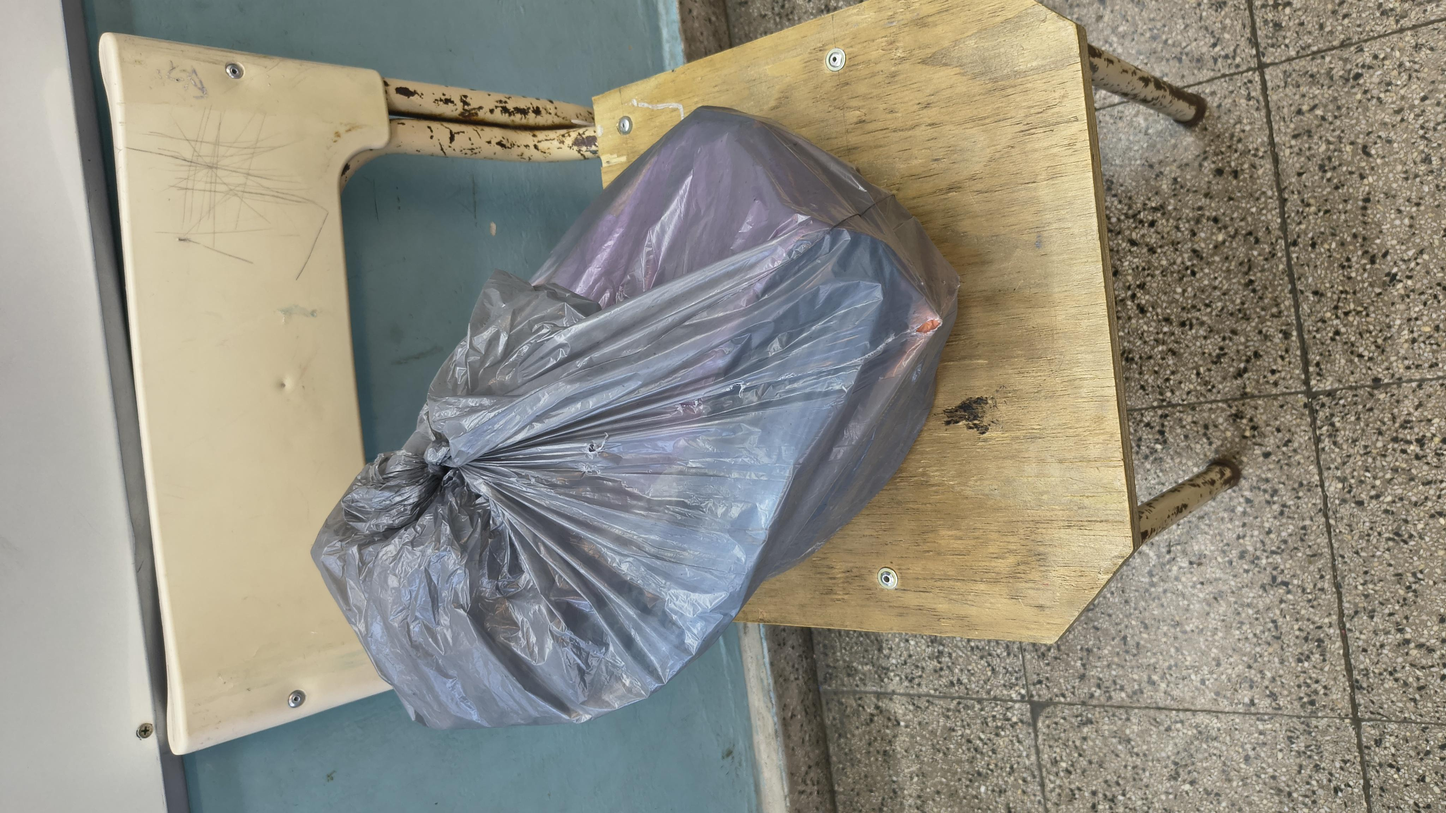Garbage: (132, 159, 1331, 554)
